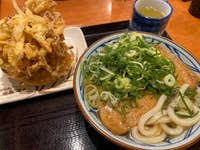kakiage: (1, 1, 72, 86)
kitune: (78, 34, 199, 150)
